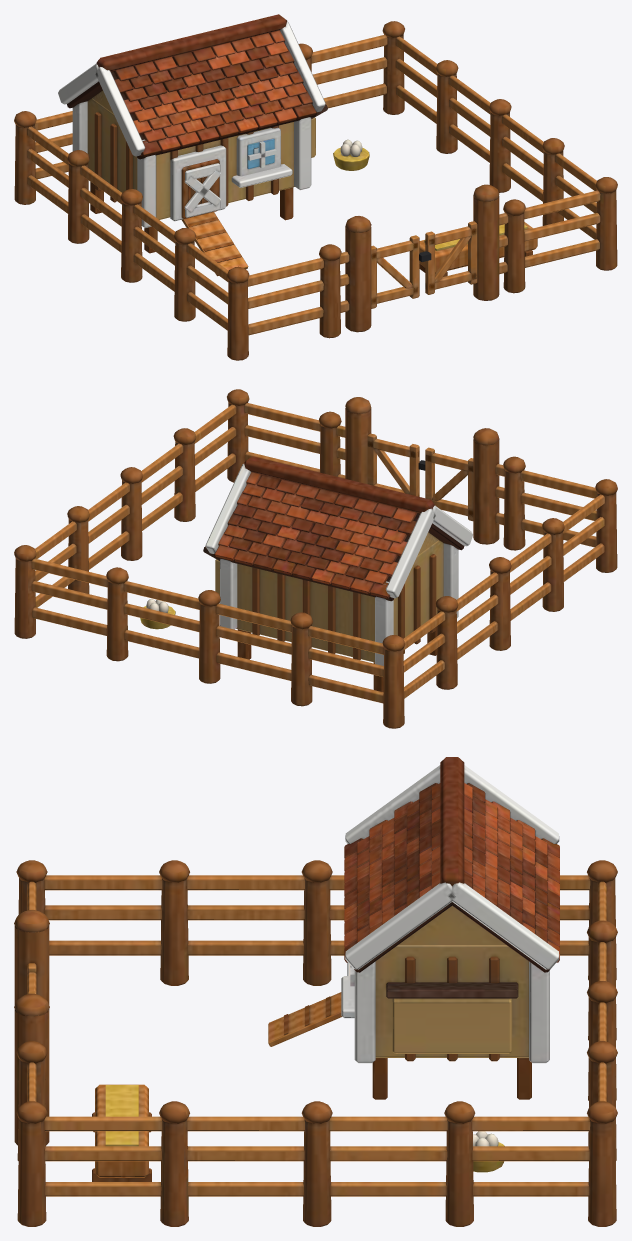
Rendered from gobbler_run.glb.
3 renders of one model, top to bottom at view 1: azimuth 30°, elevation 25°; view 2: azimuth 150°, elevation 25°; view 3: azimuth 270°, elevation 25°, orthographic. The views are drawn at different scales.
Visible parts, largest first — view 1: gobbler_run; view 2: gobbler_run; view 3: gobbler_run.
Part boxes in pixels (left/top/right/bottom): gobbler_run: left=14, top=14, right=617, bottom=360; gobbler_run: left=14, top=389, right=617, bottom=728; gobbler_run: left=14, top=757, right=617, bottom=1226.
Size of the model in its own units: 2 by 0.8813 by 2.01.
1 material, 1 textured.
